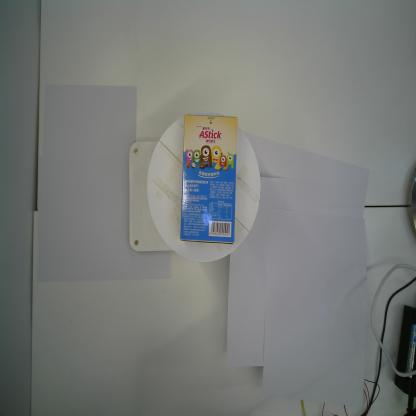Dessert: (180, 113, 238, 244)
